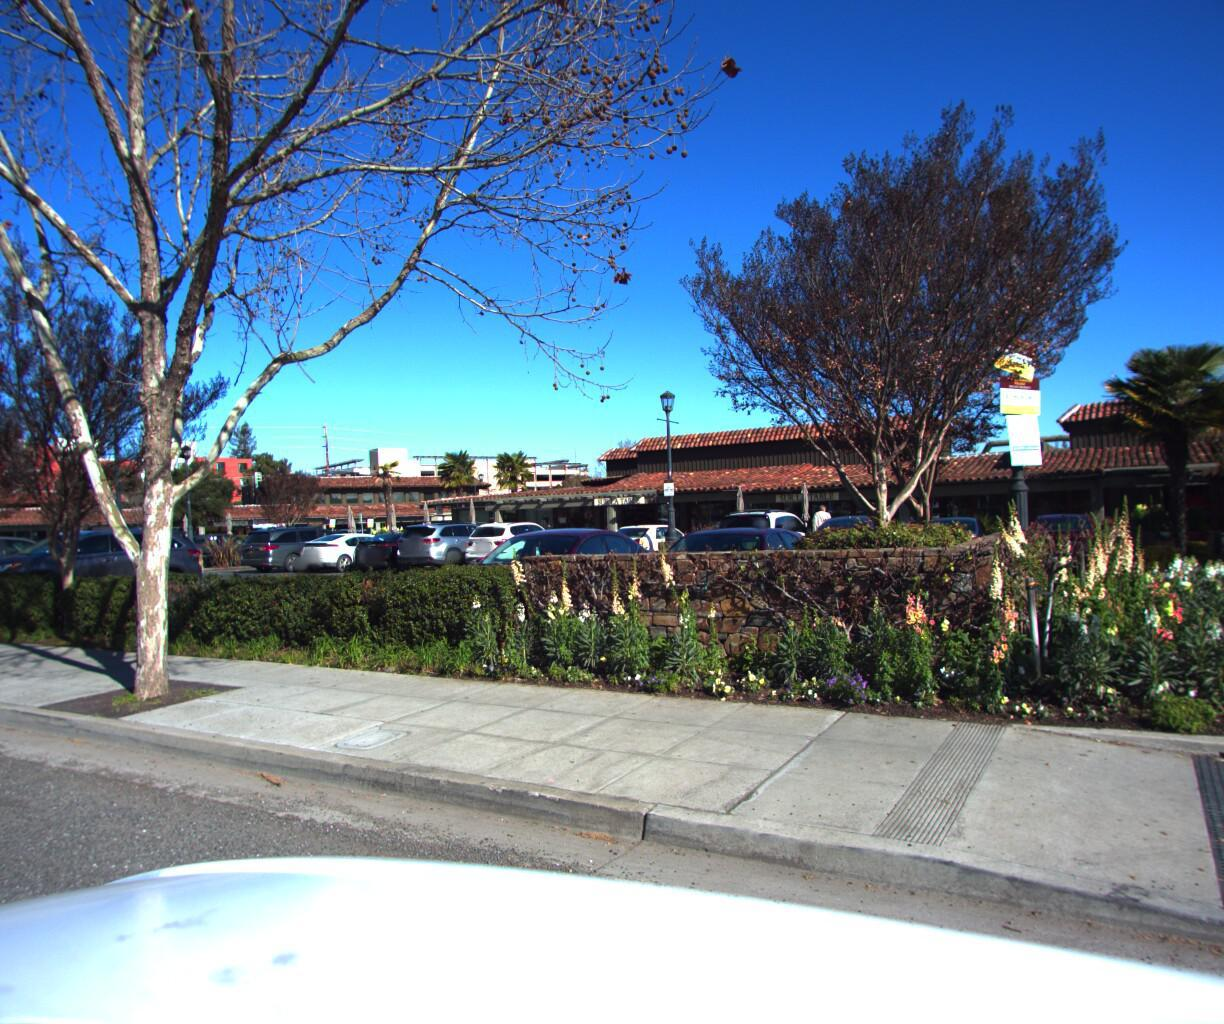car: (567, 514, 837, 685), (413, 517, 675, 660), (0, 517, 218, 611), (0, 522, 111, 601)
